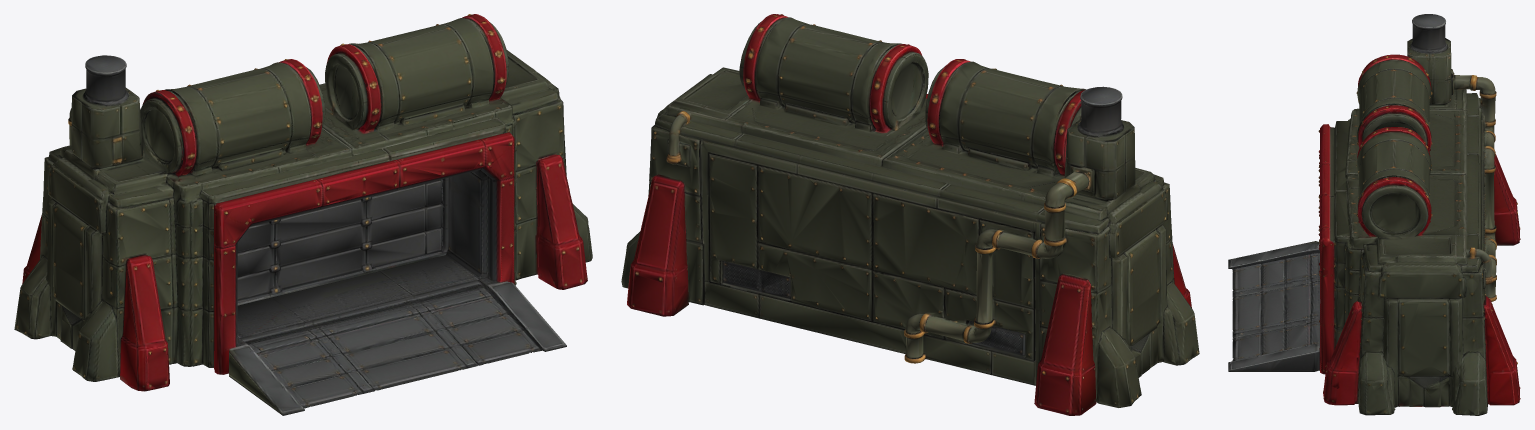
The model's file is war-factory.glb.
3 renders of one model, left to right at view 1: azimuth 30°, elevation 25°; view 2: azimuth 150°, elevation 25°; view 3: azimuth 270°, elevation 25°, orthographic. The views are drawn at different scales.
Parts seen in each view (by area): view 1: mesh_node; view 2: mesh_node; view 3: mesh_node.
Part boxes in pixels (x1,y1,x2,y2): mesh_node: (14, 14, 592, 415); mesh_node: (621, 14, 1199, 415); mesh_node: (1228, 14, 1520, 415).
Bounding box in the file's own units: 2 × 1.02 × 1.24.
1 material, 1 textured.
